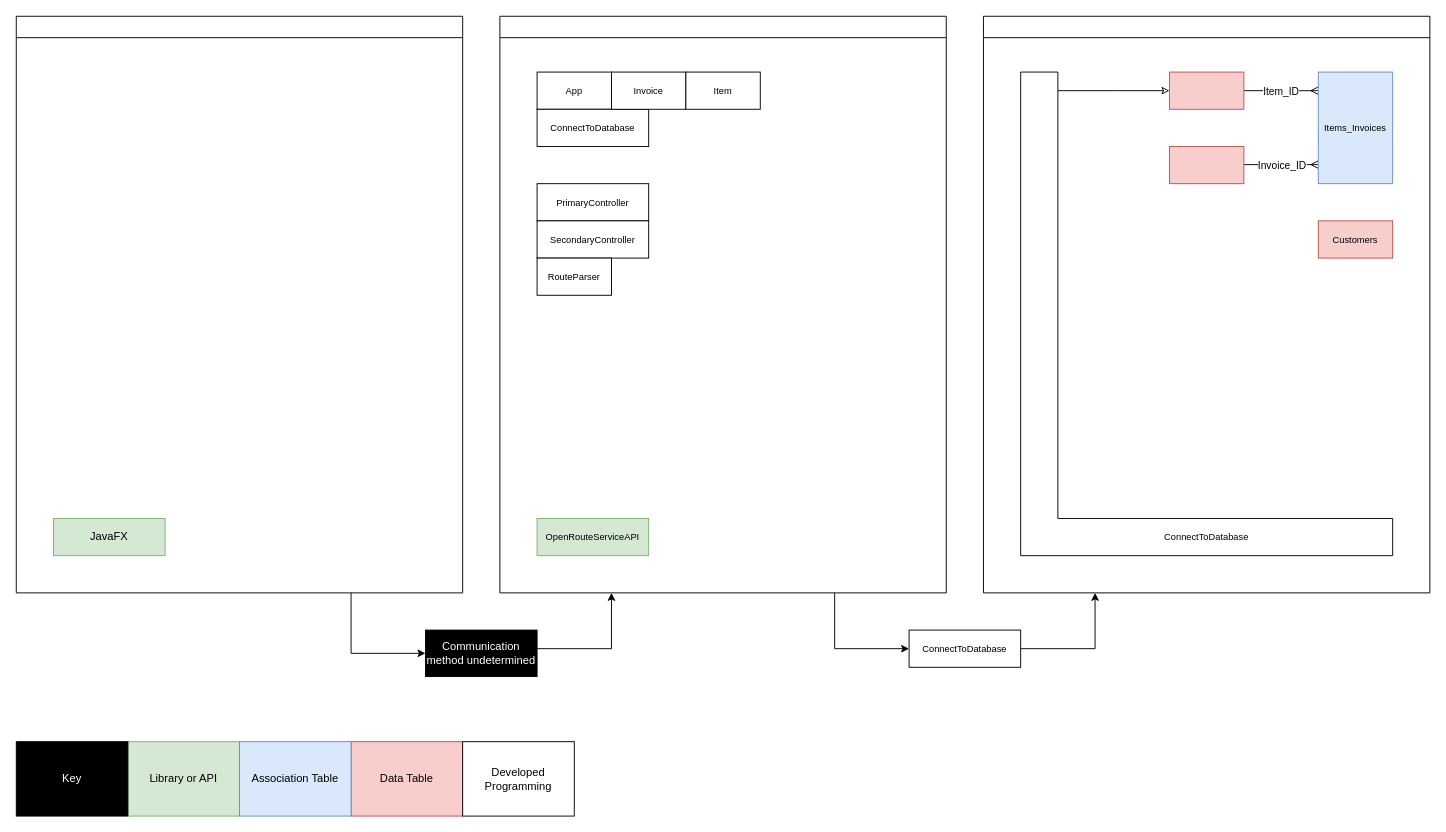
The diagram is 1446 pixels wide and 832 high, and some of its shapes have lost their labels. The shapes that lost their labels are listed below. From the top down, each one's box as (x1, y1, x2, y2) in pixels, then its label:
(1169, 71, 1244, 109): Items
(1169, 146, 1244, 184): Invoices
(15, 15, 463, 593): Front End
(499, 15, 946, 593): Middle Layer
(983, 15, 1430, 593): SQL Database
